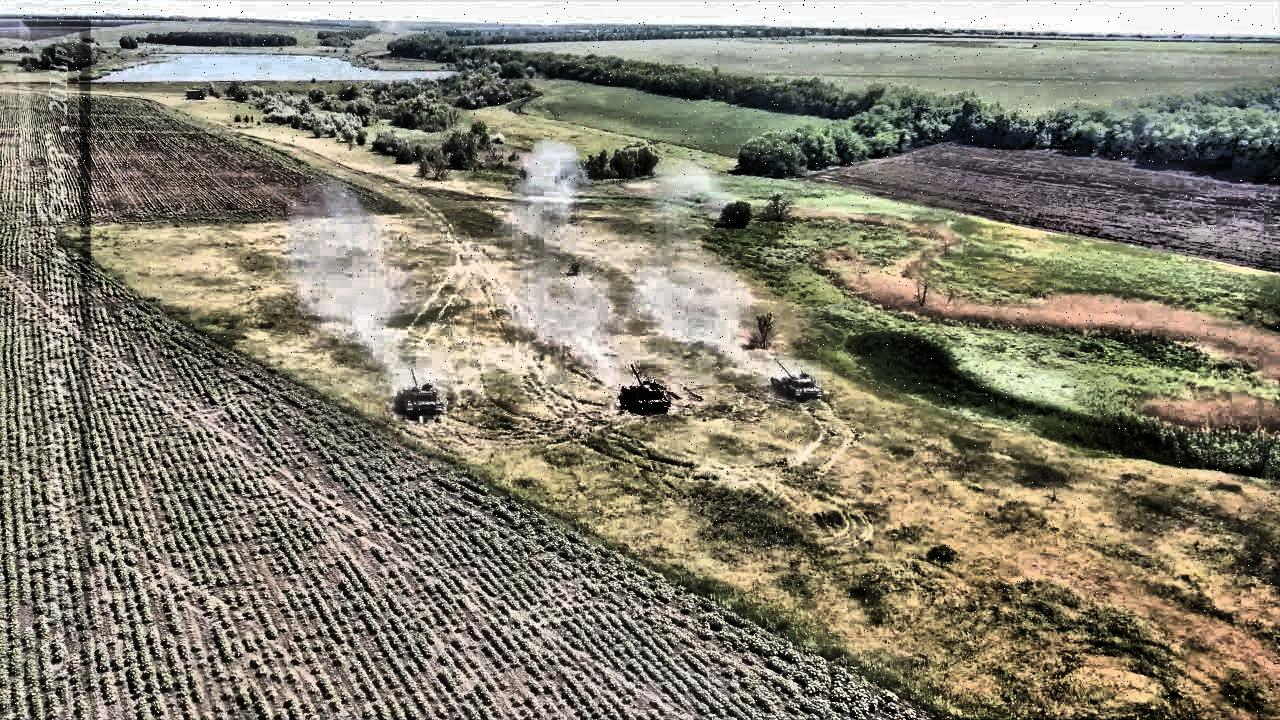military-vehicle: (393, 370, 447, 419), (620, 364, 670, 412), (769, 360, 821, 402)
